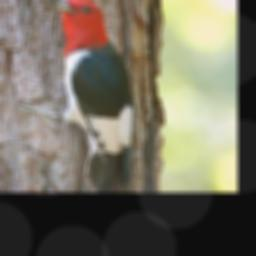Woodpecker: (16, 0, 135, 190)
